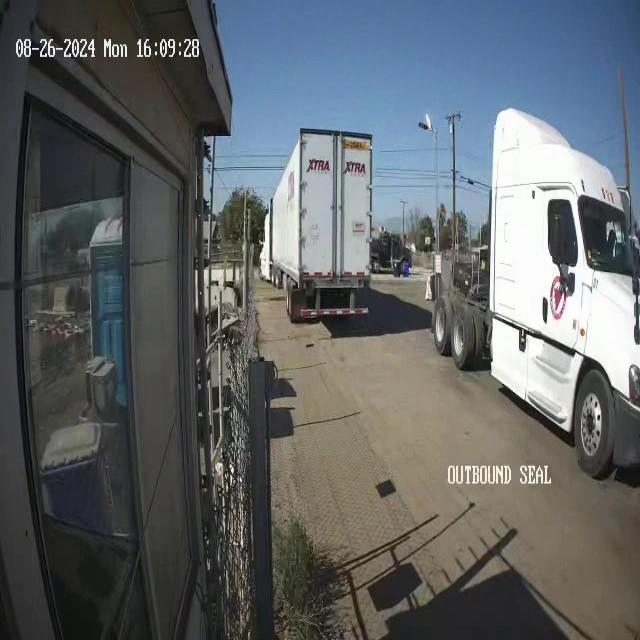BOBTAIL: (433, 100, 640, 473)
TRUCK_CONTAINER: (258, 127, 373, 322)
